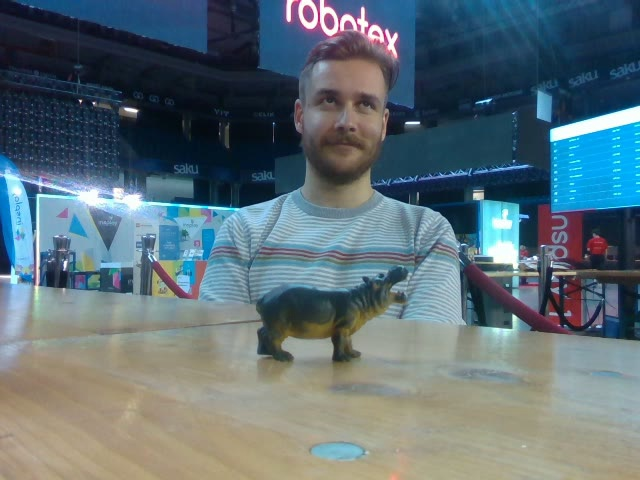toy: (255, 265, 409, 362)
